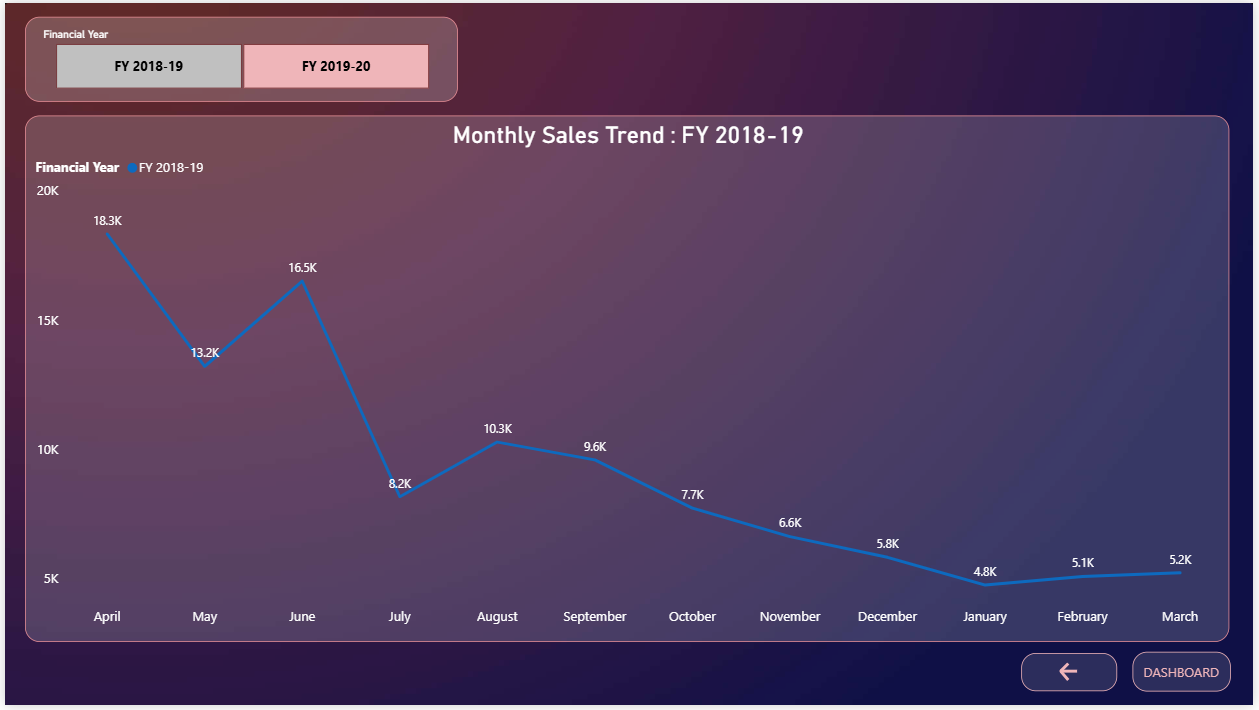

The dashboard page shown, as its layout file describes it:
{"tool":"powerbi","page":{"name":"Dashboard 11","canvas":[1280,720],"ordinal":10},"visuals":[{"type":"actionButton","box":[1155.8,665,100.6,40.5],"z":0},{"type":"actionButton","box":[1041.7,666.3,98.2,39.3],"z":1000},{"type":"lineChart","fields":{"Category":["Orders.Month Name for FY"],"Y":["Details.Total Sales"],"Series":["Orders.Financial Year"]},"box":[20.9,115.3,1235.6,539.9],"z":2000},{"type":"slicer","fields":{"Values":["Orders.Financial Year"]},"box":[20.9,13.5,444.2,87.1],"z":3000}]}

Visuals, with their boxes in screenshot pixels (x1, y1, x2, y2), scaled from the page's 1280x720 canvas onto the 1259x710 screenshot:
actionButton: (left=1137, top=656, right=1236, bottom=696)
actionButton: (left=1025, top=657, right=1121, bottom=696)
lineChart - Orders.Month Name for FY x Details.Total Sales: (left=21, top=114, right=1236, bottom=646)
slicer - Orders.Financial Year: (left=21, top=13, right=457, bottom=99)
